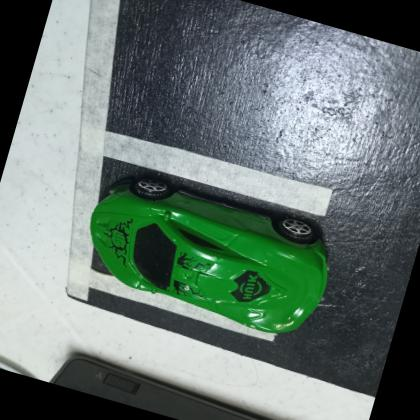Car: (89, 172, 328, 336)
